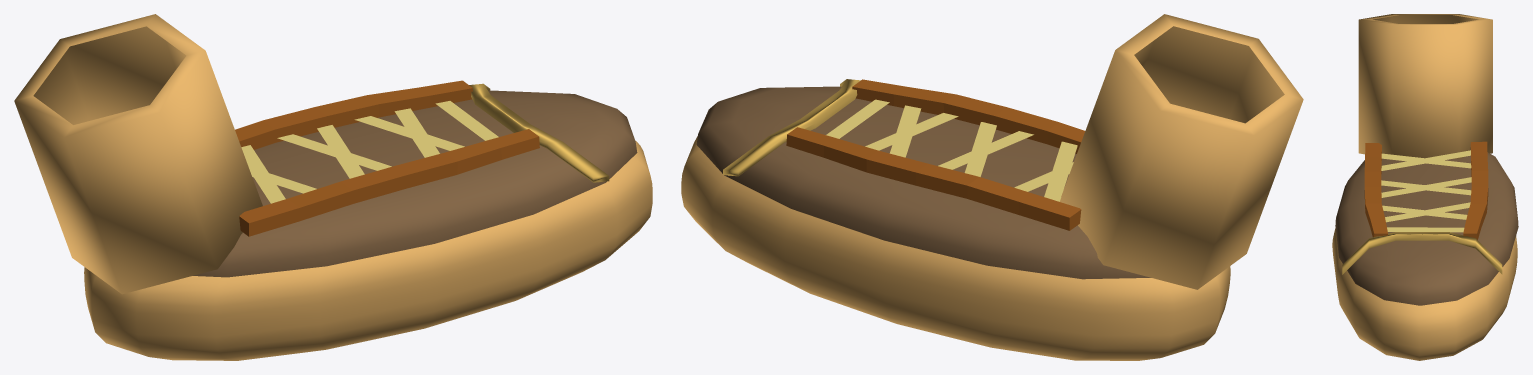
Rendered from 3D_PU_SpeedUp.fbx.
The picture shows the model from 3 angles, left to right: view 1: azimuth 30°, elevation 25°; view 2: azimuth 150°, elevation 25°; view 3: azimuth 270°, elevation 25°; orthographic projection. The views are drawn at different scales.
Visible parts, largest first — view 1: Haut chaussure, Semelle, Nappage Chaussure, Contour Lacets, Contours Lacets, Lacets.004, Lacets.002, Lacets.005, Lacets.007, Lacets.003, Lacets.001, Lacets.006; view 2: Haut chaussure, Semelle, Nappage Chaussure, Contour Lacets, Contours Lacets, Lacets.006, Lacets.004, Lacets.002, Lacets.007, Lacets.003, Lacets.001; view 3: Haut chaussure, Nappage Chaussure, Semelle, Contour Lacets, Contours Lacets, Lacets.004, Lacets.006, Lacets.002, Lacets.003, Lacets.005, Lacets.007, Lacets.001.
Part boxes in pixels (x1,y1,x2,y2): Haut chaussure: (14,14,262,294); Semelle: (84,140,652,360); Nappage Chaussure: (193,90,637,277); Contour Lacets: (235,80,539,236); Contours Lacets: (469,83,609,182); Lacets.004: (277,134,391,170); Lacets.002: (354,116,464,150); Lacets.005: (241,145,285,203); Lacets.007: (435,101,498,140); Lacets.003: (317,125,364,178); Lacets.001: (394,108,439,157); Lacets.006: (248,166,316,193); Haut chaussure: (1060,14,1303,289); Semelle: (681,136,1230,360); Nappage Chaussure: (696,86,1150,279); Contour Lacets: (786,79,1085,230); Contours Lacets: (723,79,860,176); Lacets.006: (1044,141,1077,201); Lacets.004: (964,122,996,176); Lacets.002: (889,105,921,157); Lacets.007: (826,99,889,138); Lacets.003: (938,131,1033,169); Lacets.001: (865,113,958,150); Haut chaussure: (1358,14,1492,158); Nappage Chaussure: (1335,152,1518,305); Semelle: (1332,228,1517,360); Contour Lacets: (1364,141,1488,239); Contours Lacets: (1342,232,1502,274); Lacets.004: (1381,177,1471,197); Lacets.006: (1381,150,1470,170); Lacets.002: (1385,202,1470,222); Lacets.003: (1381,180,1471,195); Lacets.005: (1381,153,1471,168); Lacets.007: (1387,227,1464,232); Lacets.001: (1382,205,1467,219).
Bounding box in the file's own units: 2.9 × 1.47 × 1.16.
